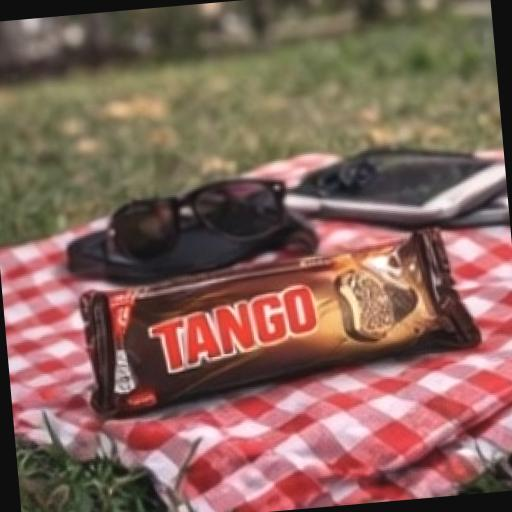tango: (51, 182, 508, 442)
